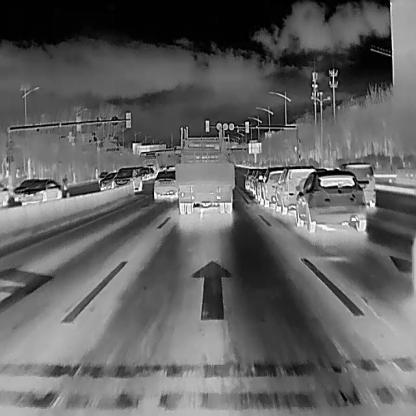car: (293, 169, 367, 232), (177, 134, 235, 213), (272, 164, 316, 213), (334, 160, 376, 207), (256, 164, 290, 206), (22, 176, 64, 205), (9, 175, 41, 202), (153, 167, 178, 200), (113, 166, 143, 193), (98, 170, 118, 192), (136, 165, 149, 180), (96, 167, 109, 182)
